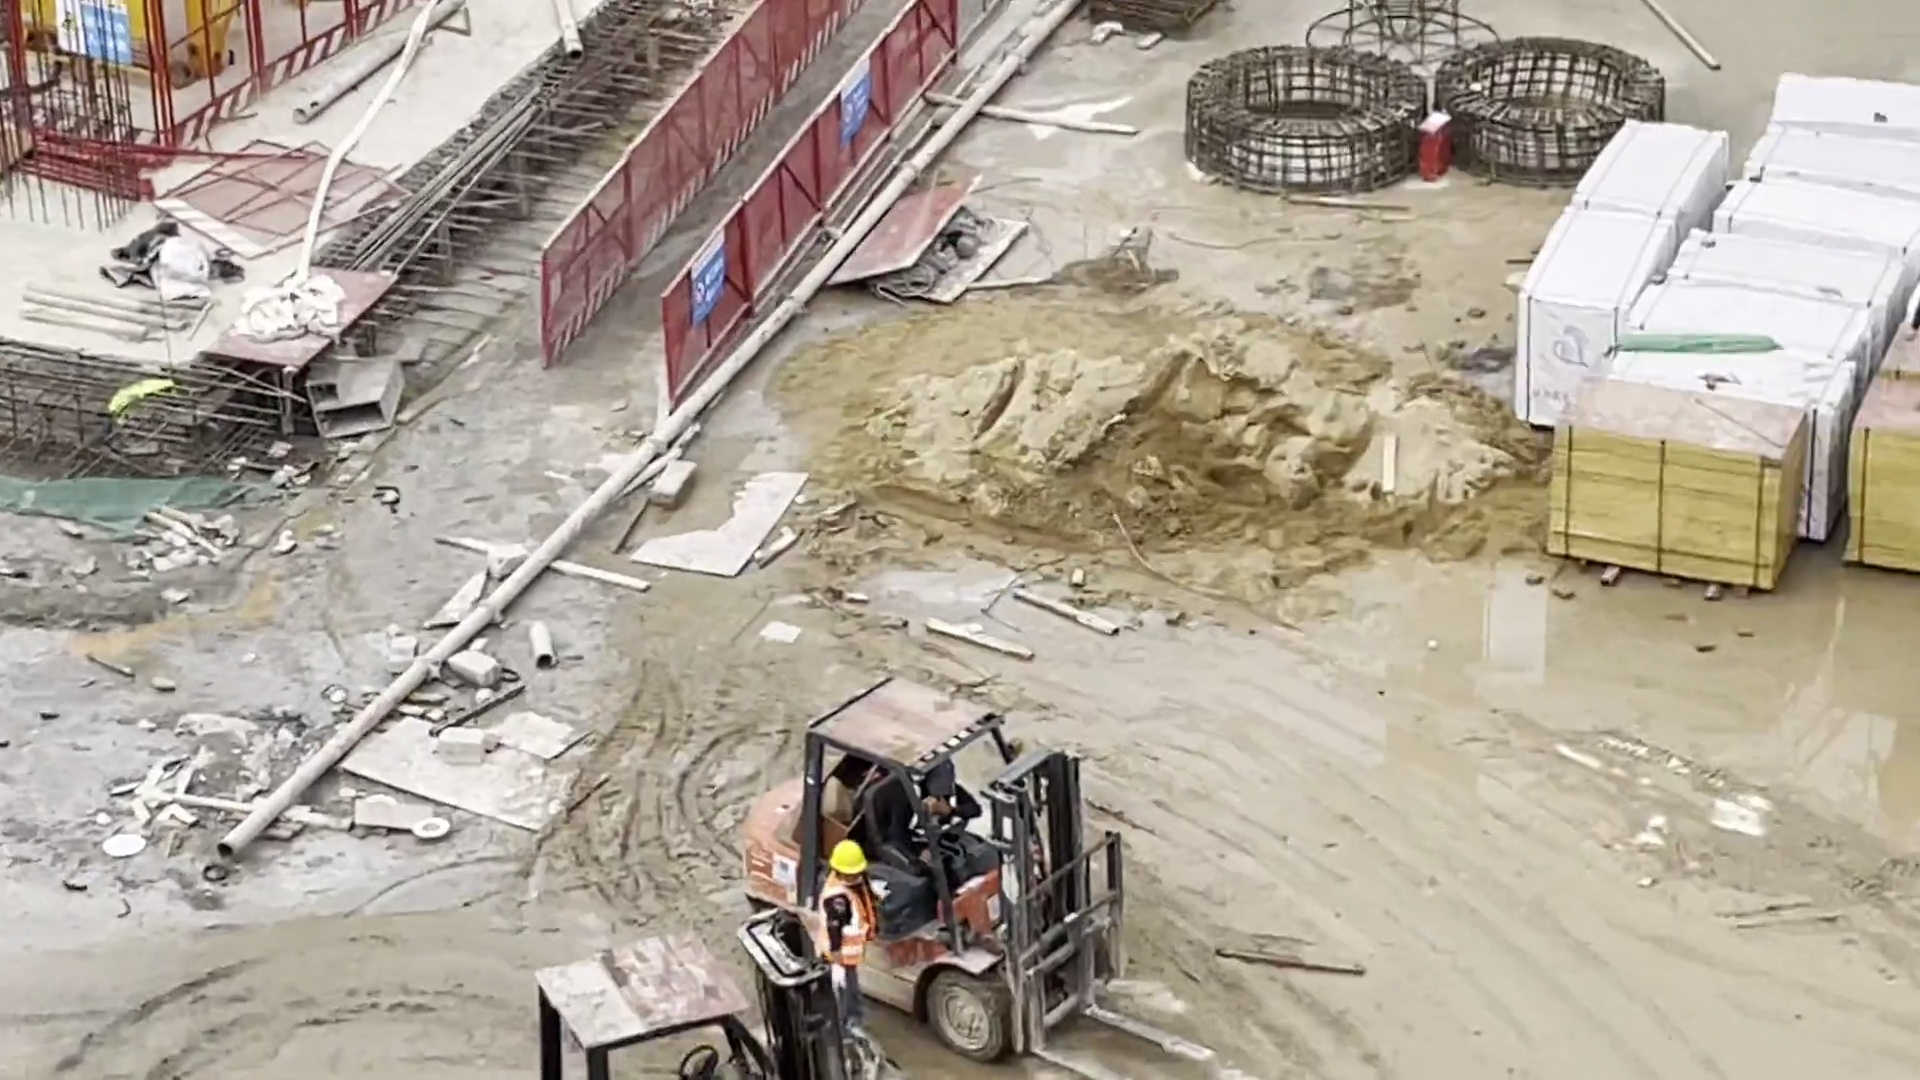fence: (537, 2, 958, 408)
helmet: (826, 842, 863, 875), (928, 759, 954, 780)
person: (862, 756, 978, 894), (817, 832, 877, 1022)
slogan: (53, 1, 131, 68), (693, 228, 726, 329), (840, 59, 871, 148)
vest: (819, 874, 866, 966)
